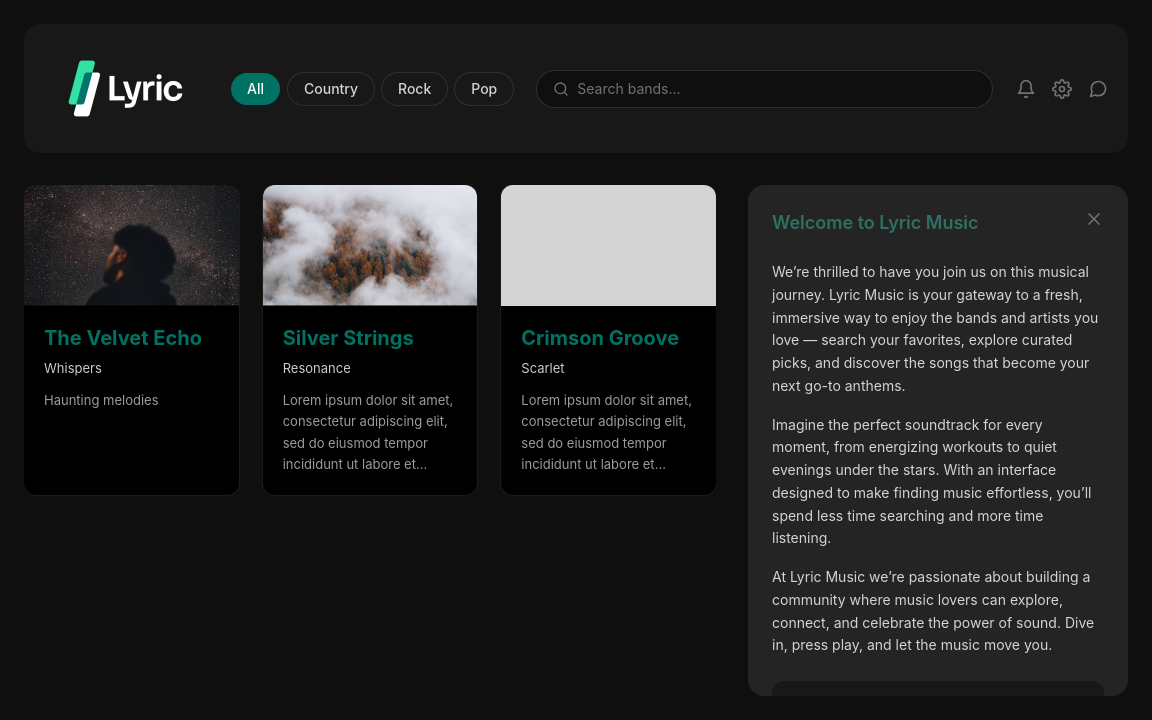
Test: App — catalog behavior › shows the "no matches" empty state when genre + search overlap to nothing
The width and height of the screenshot is (1152, 720).
Expected: the button "The Velvet Echo Whispers Haunting melodies" is shown, top-left (24, 185), bottom-right (239, 495)
Click the button "Pop": point(484, 88) top-left (455, 72), bottom-right (513, 104)
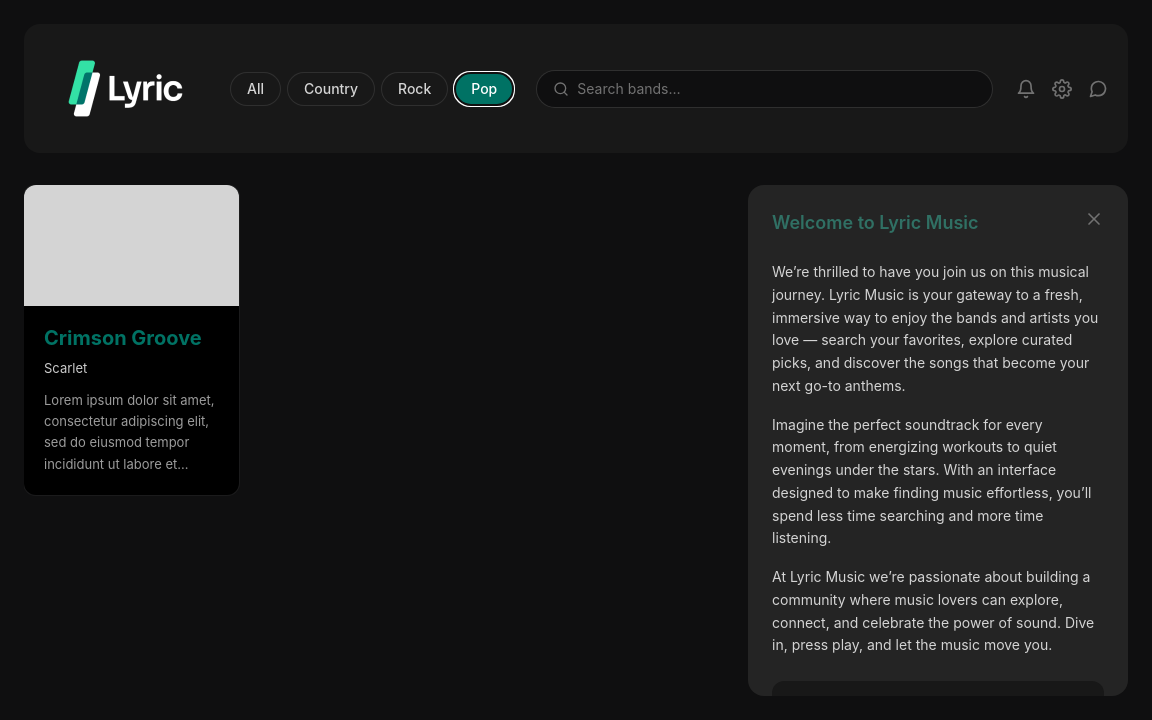
In the search field labelled "Search bands…": point(777, 88) top-left (577, 78), bottom-right (976, 98), type "velvet"
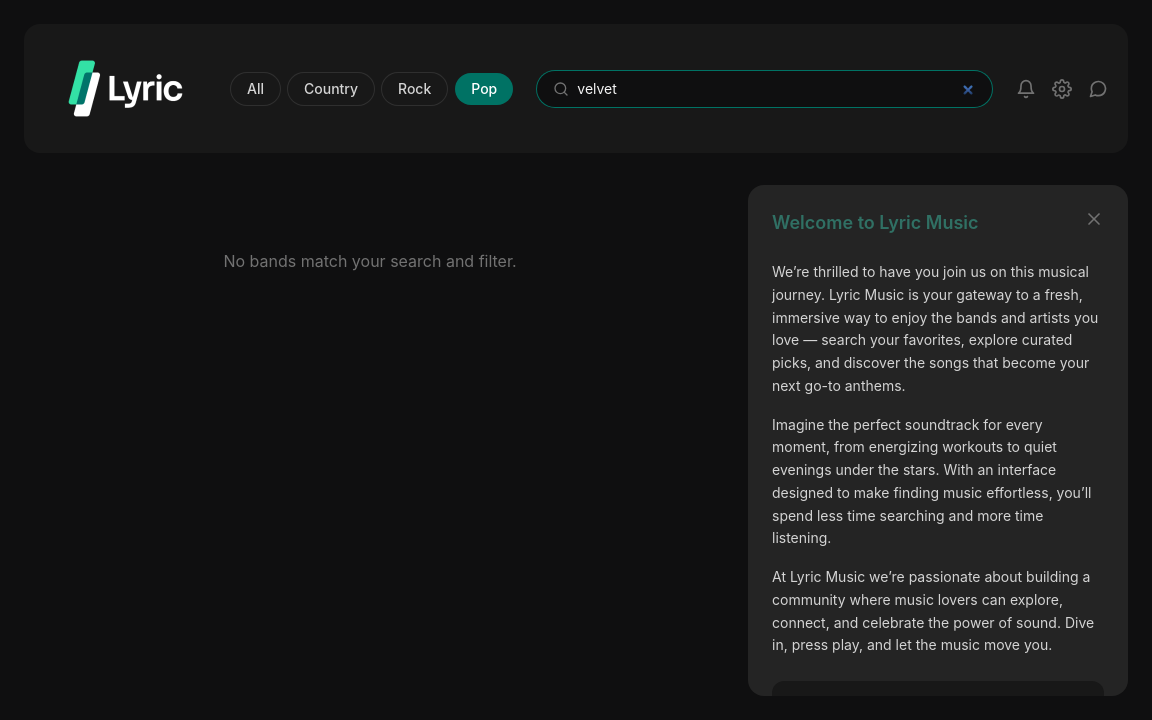
Result: the text "No bands match your search and filter." is shown at top-left (223, 251), bottom-right (517, 271)
